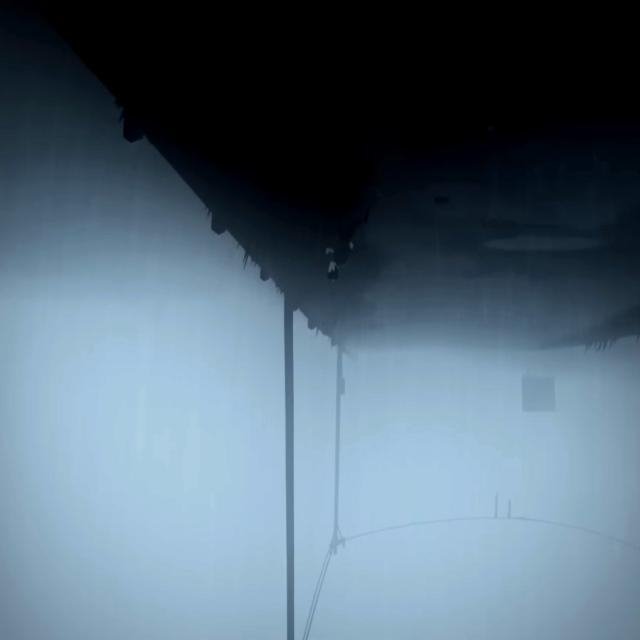boy: (326, 211, 368, 282)
